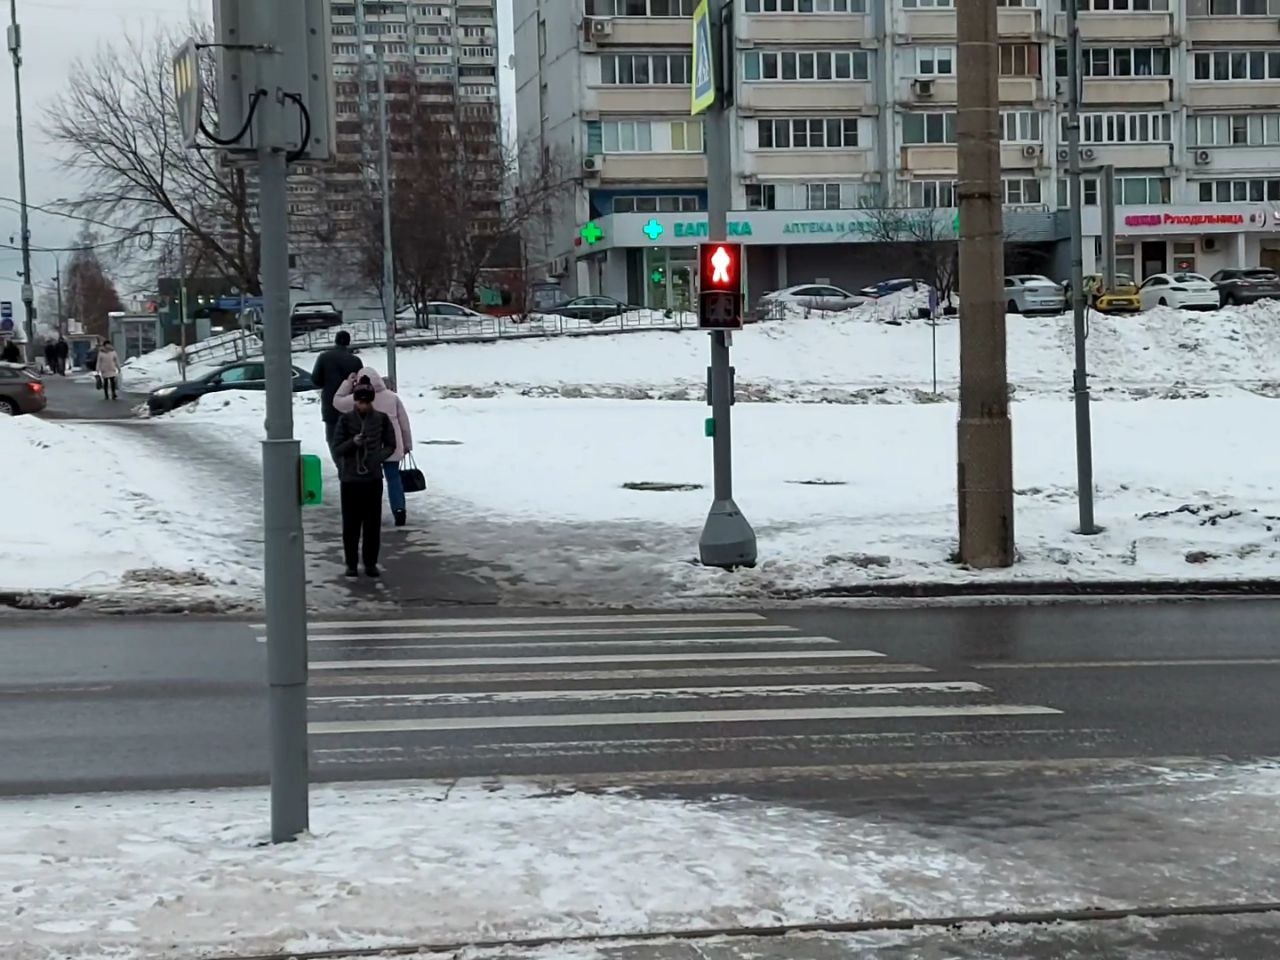sombie: (315, 370, 415, 591)
